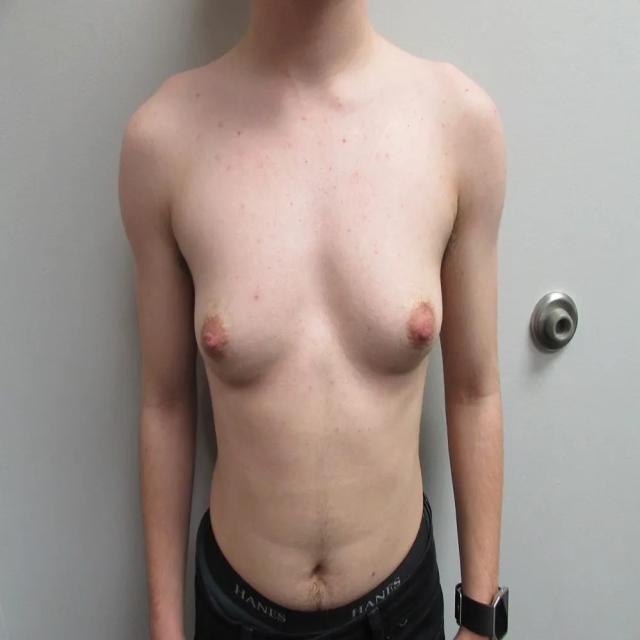Seno ileso: (185, 230, 312, 404), (324, 229, 452, 395)
